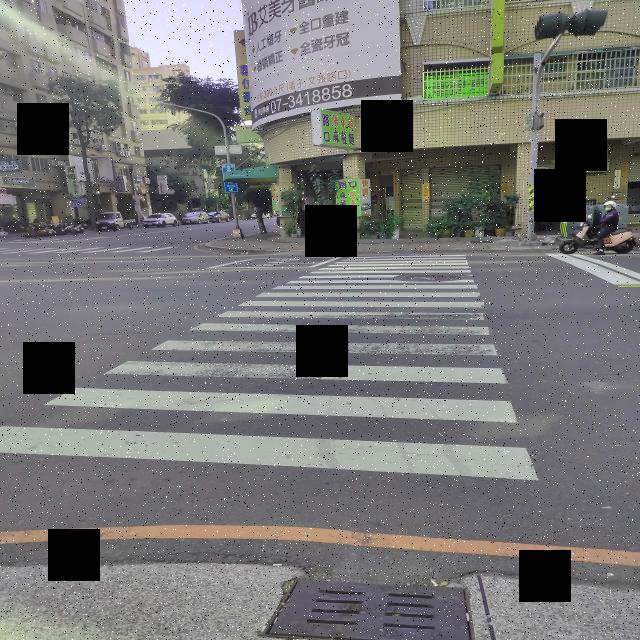zebra crossing: (0, 255, 538, 489), (0, 247, 177, 255)
